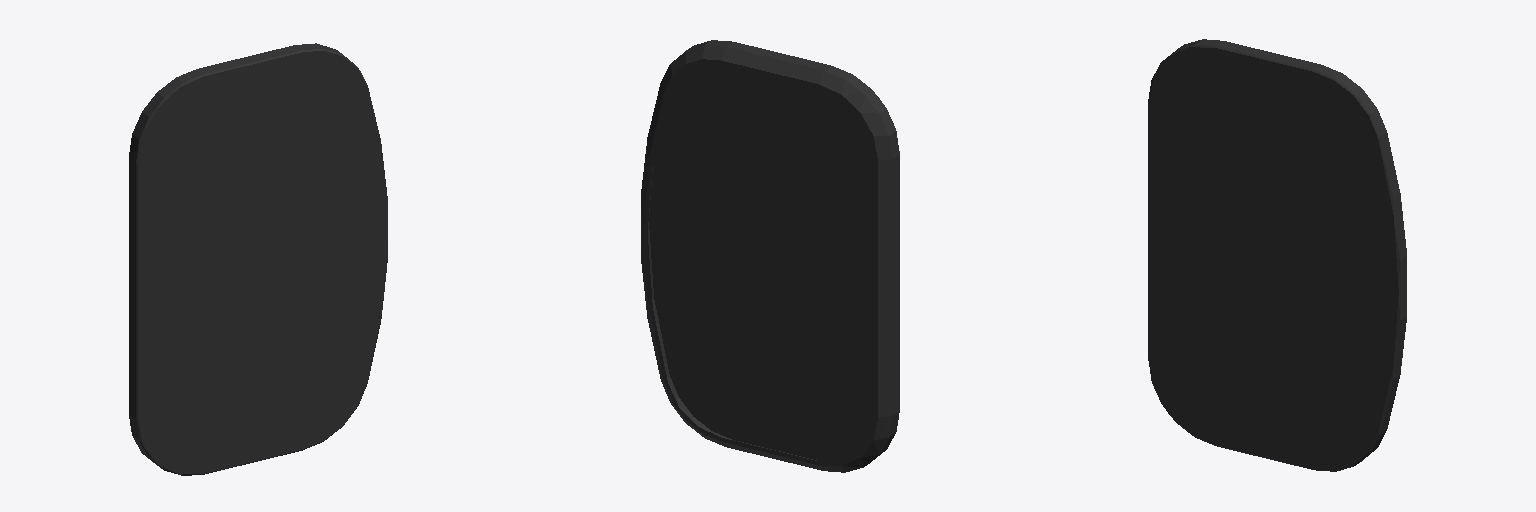
Rendered from Shoe_Flex_1__1_mesh_1.obj.
3 views of the same model, side by side, from view 1: azimuth 30°, elevation 25°; view 2: azimuth 150°, elevation 25°; view 3: azimuth 330°, elevation 25° (orthographic).
Bounding box in the file's own units: 0.0763 × 0.1159 × 0.007.